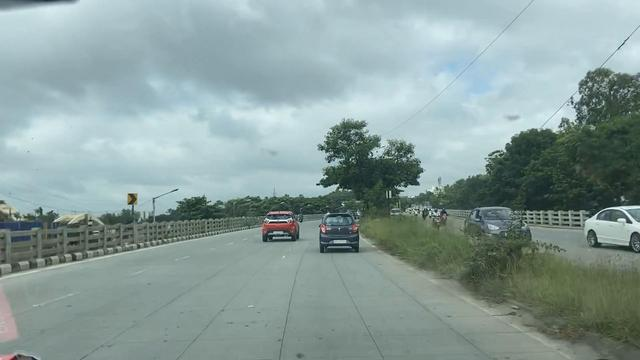LMV: (319, 215, 359, 248), (261, 211, 301, 243)
